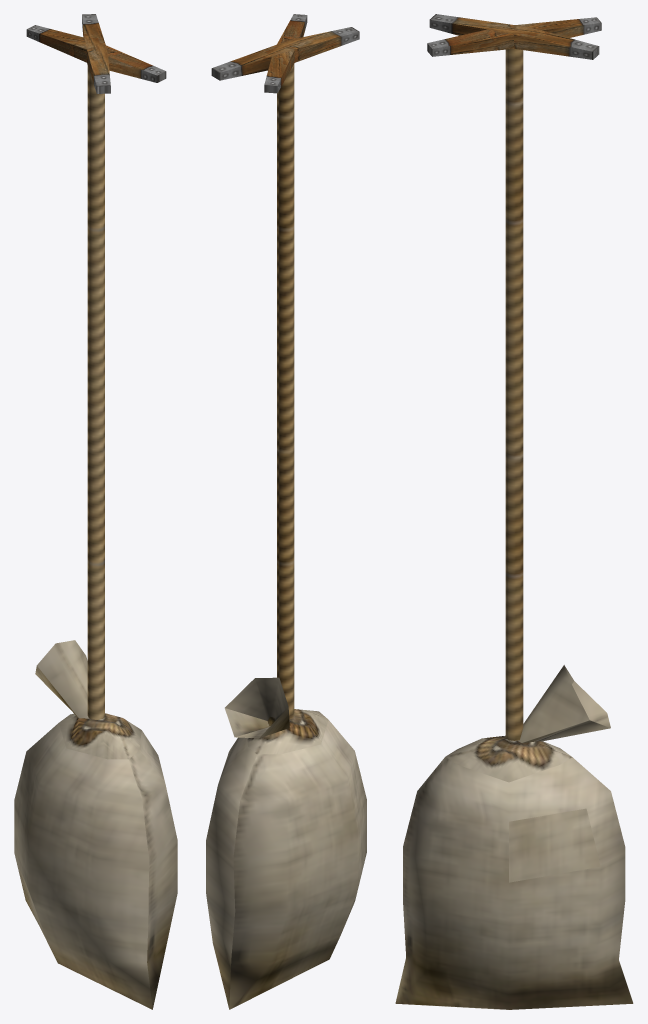
The model's file is P_Modul_26.FBX.
3 views of the same model, side by side, from view 1: azimuth 30°, elevation 25°; view 2: azimuth 150°, elevation 25°; view 3: azimuth 270°, elevation 25° (orthographic). The views are drawn at different scales.
Visible parts, largest first — view 1: P_Modul_26_Sack, P_Modul_26_Rope, P_Modul_26_Halter; view 2: P_Modul_26_Sack, P_Modul_26_Rope, P_Modul_26_Halter; view 3: P_Modul_26_Sack, P_Modul_26_Rope, P_Modul_26_Halter.
Boxes of the visible parts, x1,y1,x2,y2 form: P_Modul_26_Sack: (14, 640, 177, 1009); P_Modul_26_Rope: (87, 66, 104, 719); P_Modul_26_Halter: (26, 14, 166, 93); P_Modul_26_Sack: (206, 677, 366, 1009); P_Modul_26_Rope: (277, 64, 294, 719); P_Modul_26_Halter: (211, 14, 359, 93); P_Modul_26_Sack: (395, 665, 633, 1009); P_Modul_26_Rope: (505, 49, 523, 740); P_Modul_26_Halter: (427, 14, 601, 59).
Size of the model in its own units: 2.79 by 17.68 by 3.89.
Materials: 3 (3 with a texture image).
